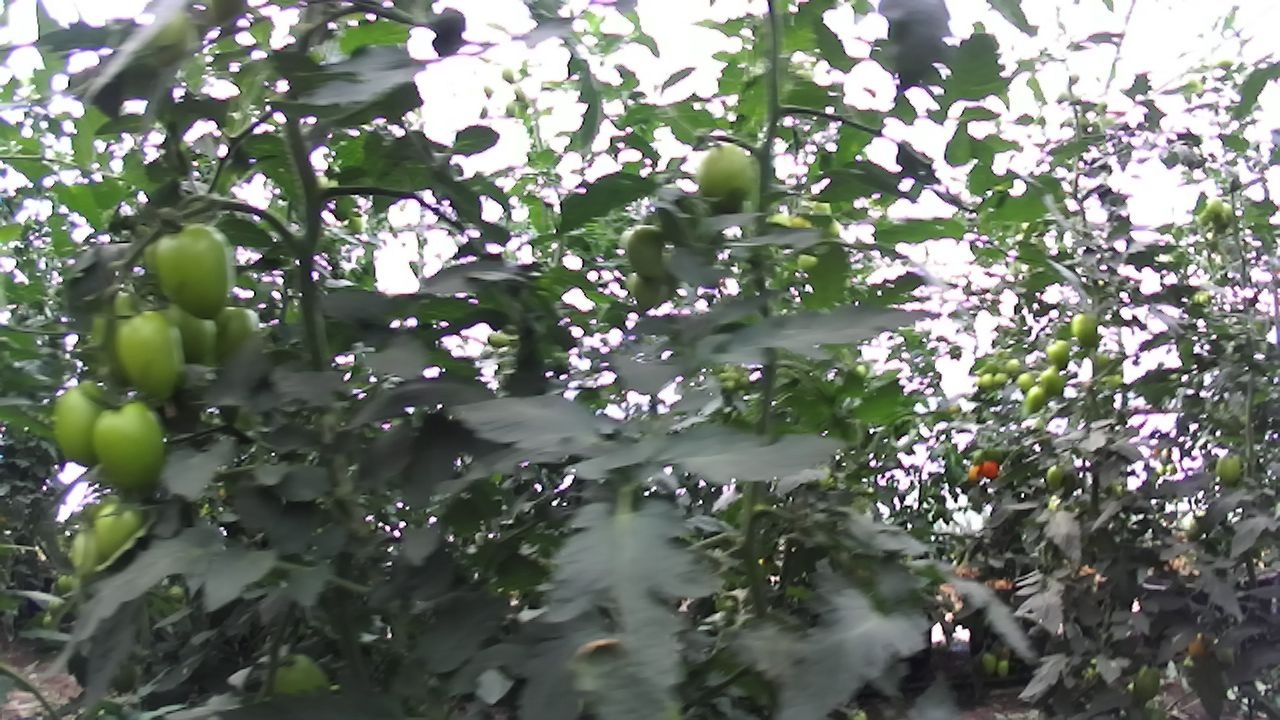tomato: (137, 200, 252, 335), (104, 297, 205, 415), (84, 390, 181, 504), (43, 367, 129, 475), (684, 125, 770, 222), (154, 294, 229, 376), (615, 212, 688, 292), (84, 492, 153, 568), (202, 298, 273, 371), (265, 648, 336, 711), (621, 260, 671, 318), (1125, 658, 1169, 705), (1208, 446, 1249, 493), (1040, 333, 1079, 375), (1067, 308, 1104, 350), (1033, 361, 1069, 399), (1037, 458, 1072, 495), (1019, 379, 1051, 418), (976, 452, 1007, 485), (1012, 365, 1043, 398), (978, 646, 1002, 681), (992, 653, 1015, 686), (963, 458, 987, 488), (1204, 194, 1228, 222), (1000, 352, 1026, 377), (976, 368, 998, 393), (989, 367, 1012, 390)
